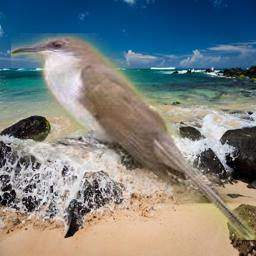Cuckoo: (11, 33, 256, 240)
